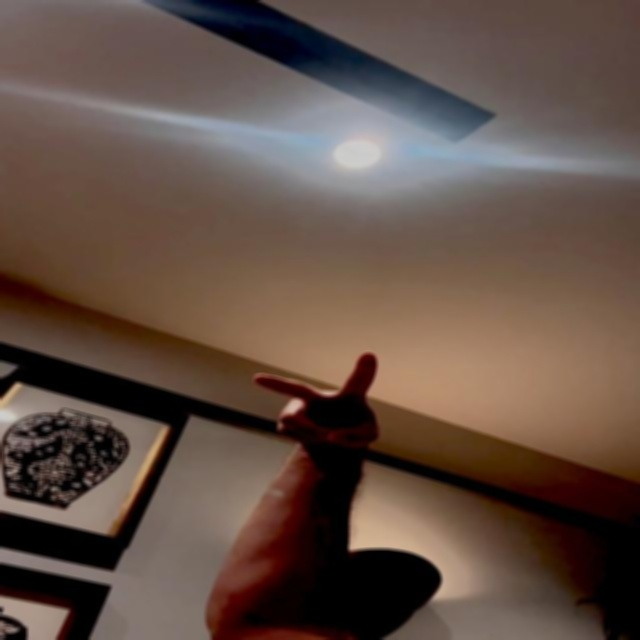Scissors: (254, 352, 381, 447)
